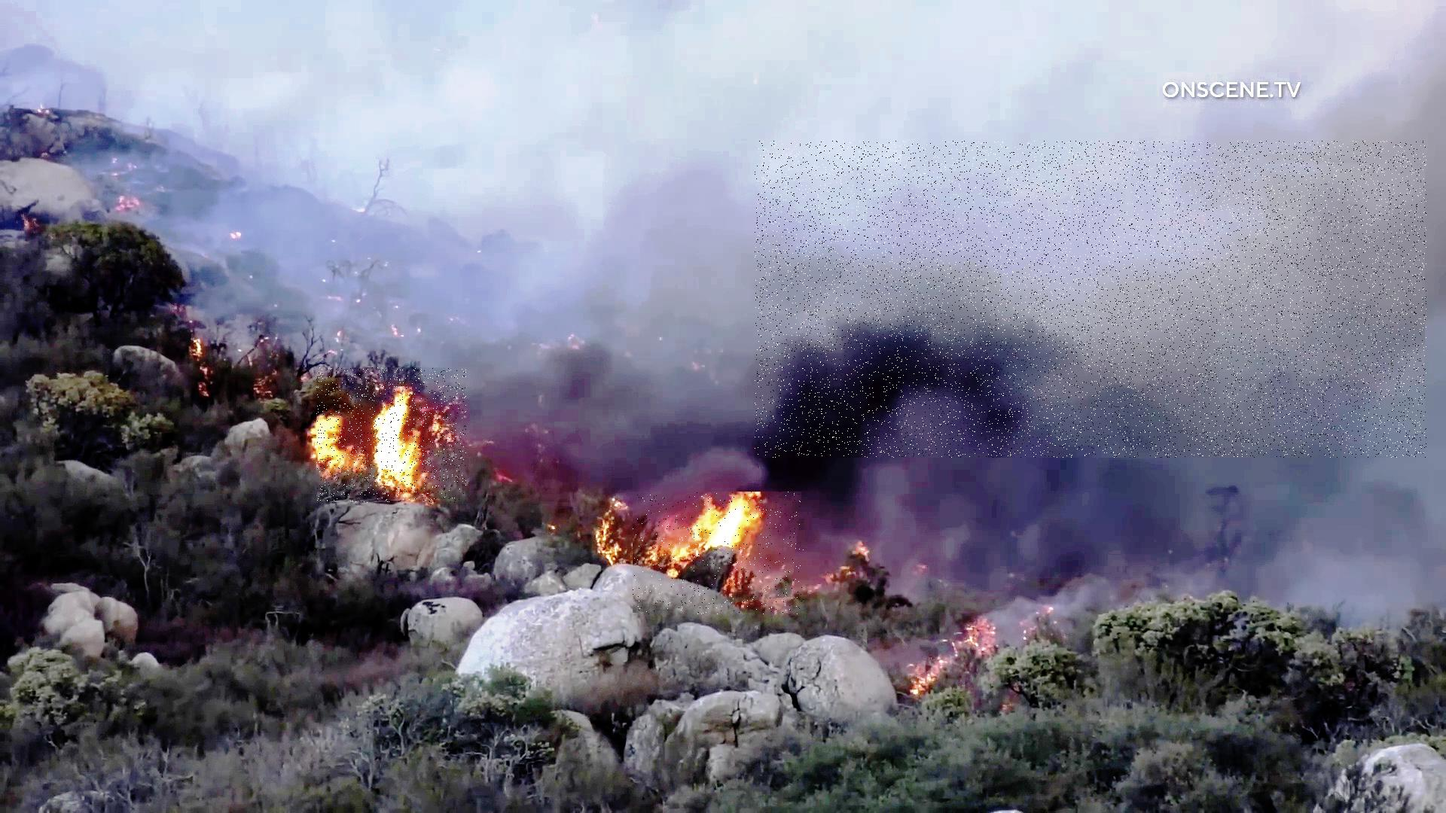fire: (633, 492, 804, 614), (317, 367, 466, 503)
smoke: (755, 141, 1427, 458)
